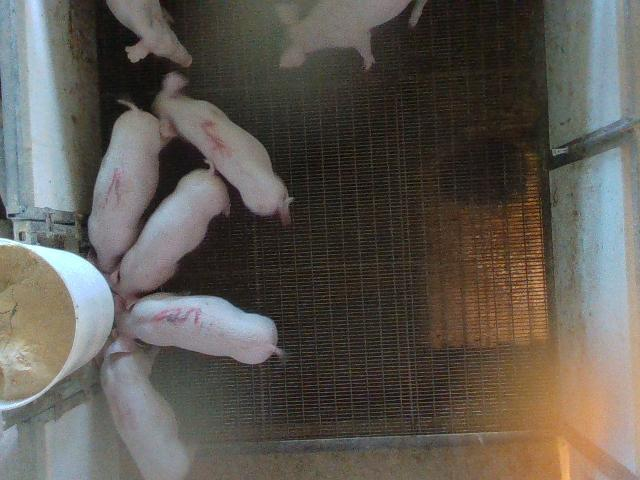pig-1: (88, 101, 169, 273)
pig-3: (106, 292, 282, 364)
pig-4: (101, 351, 190, 478)
pig-5: (154, 72, 291, 224)
